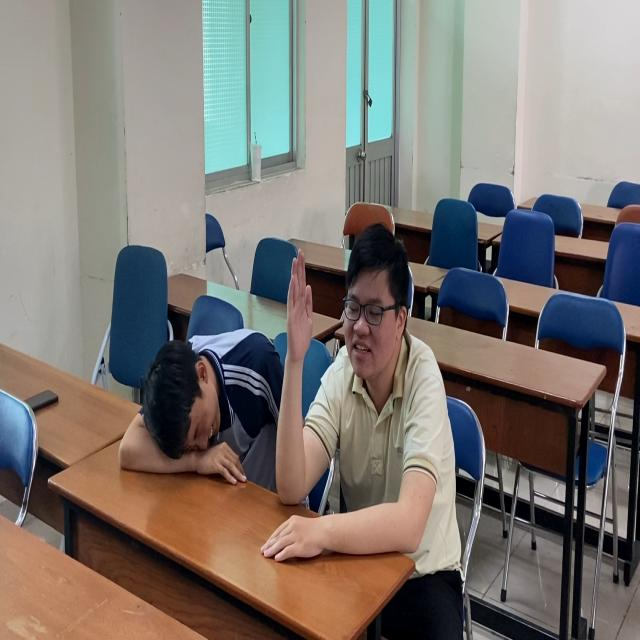raise_hand: (275, 223, 461, 567)
sleep: (118, 310, 277, 496)
